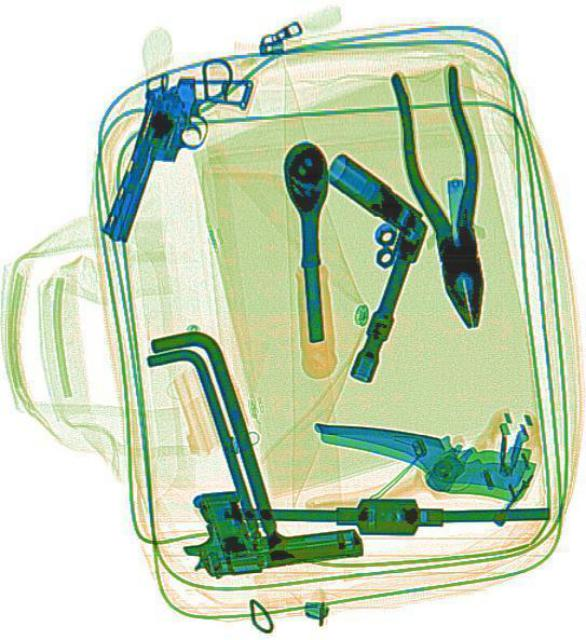Gun: (97, 51, 252, 263), (174, 472, 360, 580)
Pliers: (383, 58, 506, 334)
